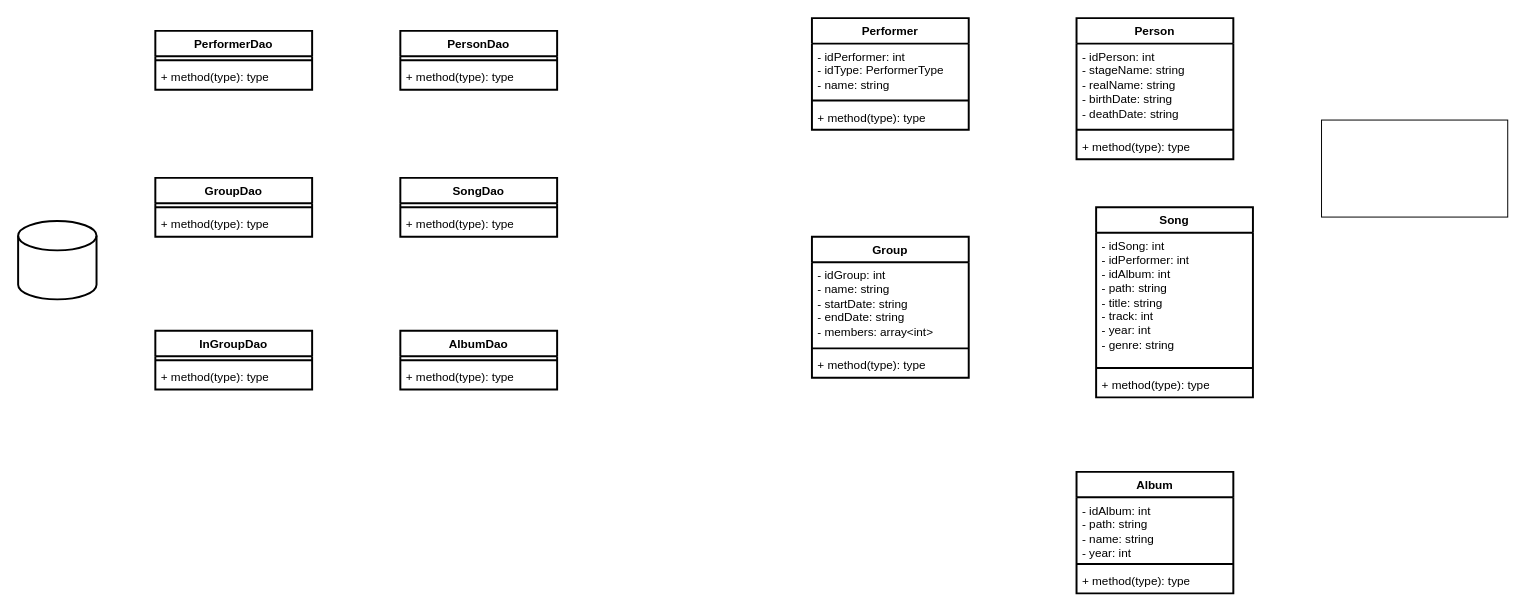
This 1525x613 diagram has some shape labels left out. The shapes that lost their labels are listed below. From the top down, each one's centre as x and y in pixels, then its label:
At point 1414,168: "<<Enumeration>> PerformerType + Person + Group + Unknown".
At point 57,260: "BD".
